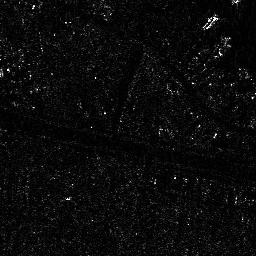ship: (202, 13, 219, 31)
